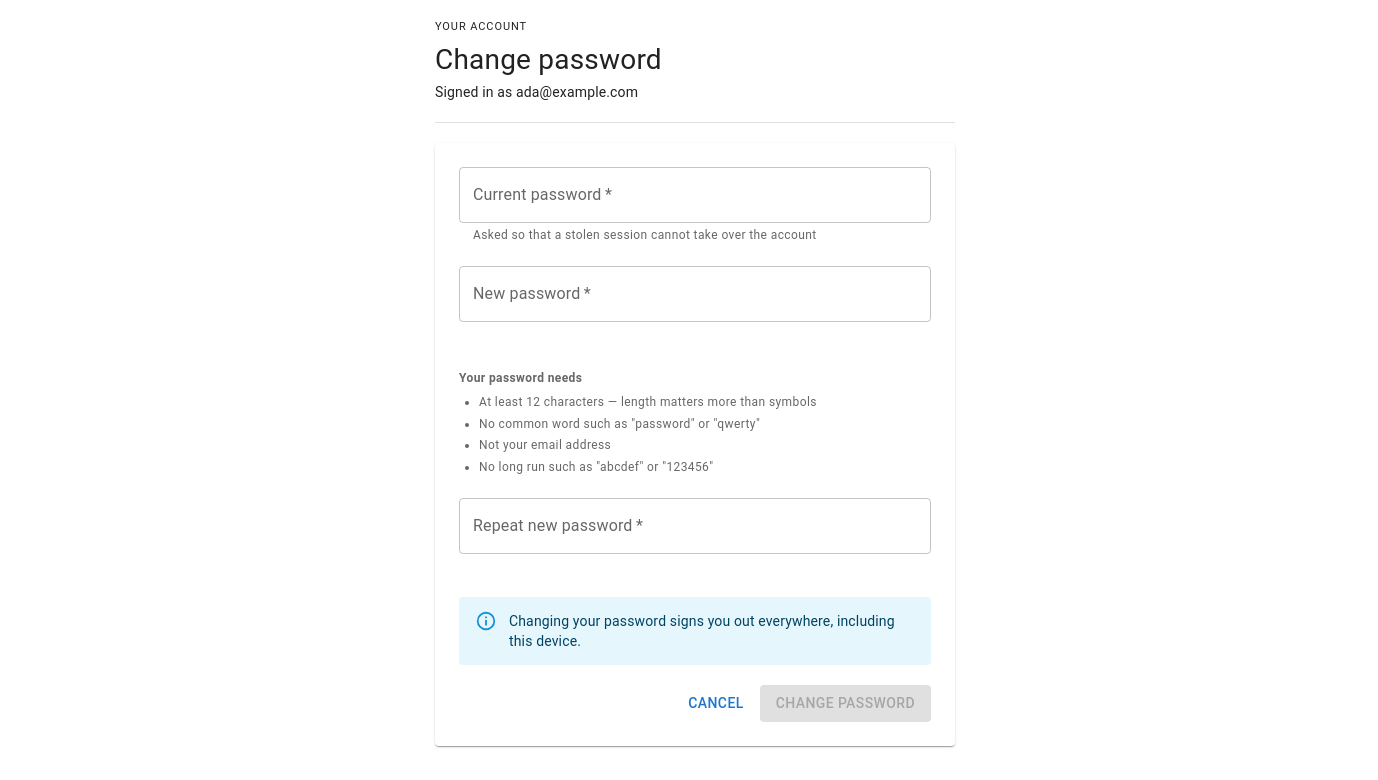
Test: ChangePasswordPage › signs the user out afterwards because every session was revoked
Type "current-password" into the password field labelled "Current password *" at (695, 195), box [459, 167, 931, 223]
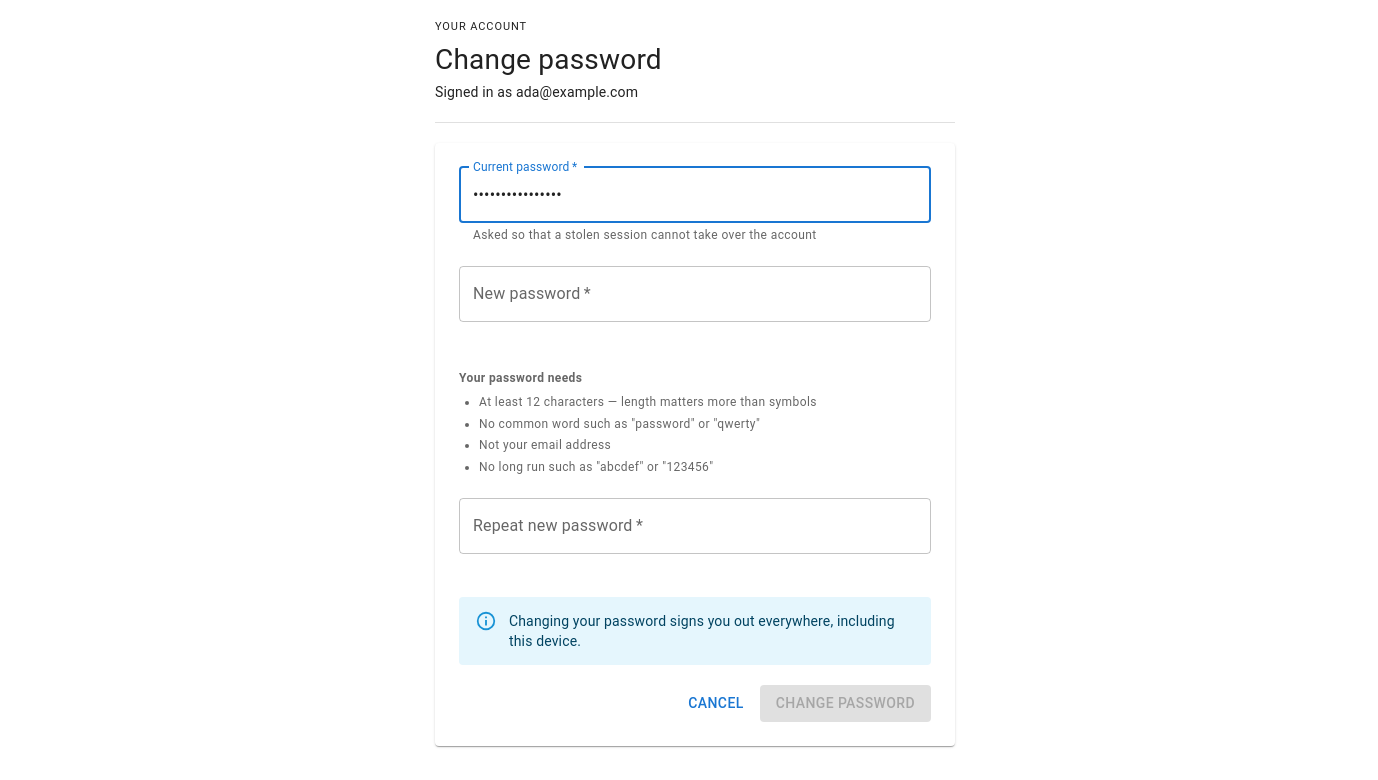
Type "a-brand-new-password" into the password field labelled "New password *" at (695, 294), box [459, 266, 931, 322]
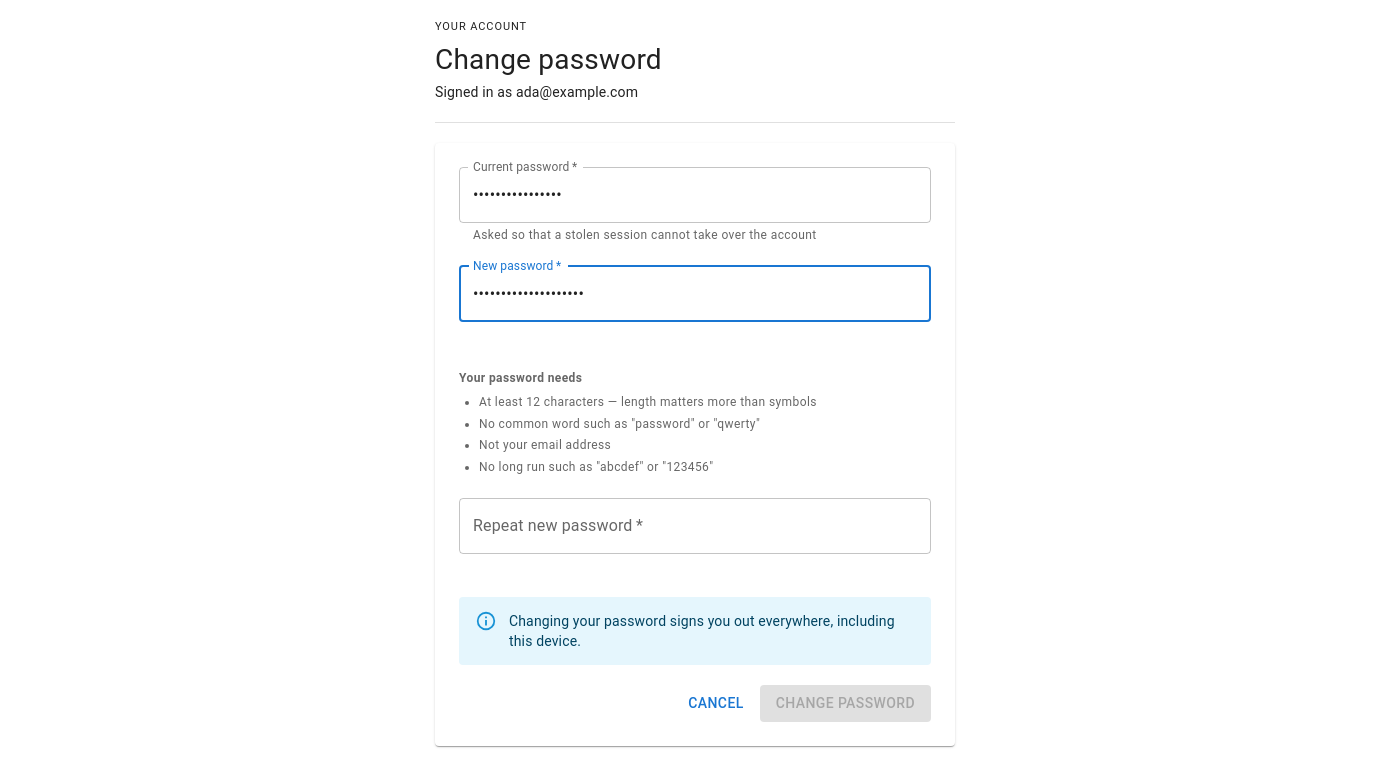
Type "a-brand-new-password" into the password field labelled "Repeat new password *" at (695, 526), box [459, 498, 931, 554]
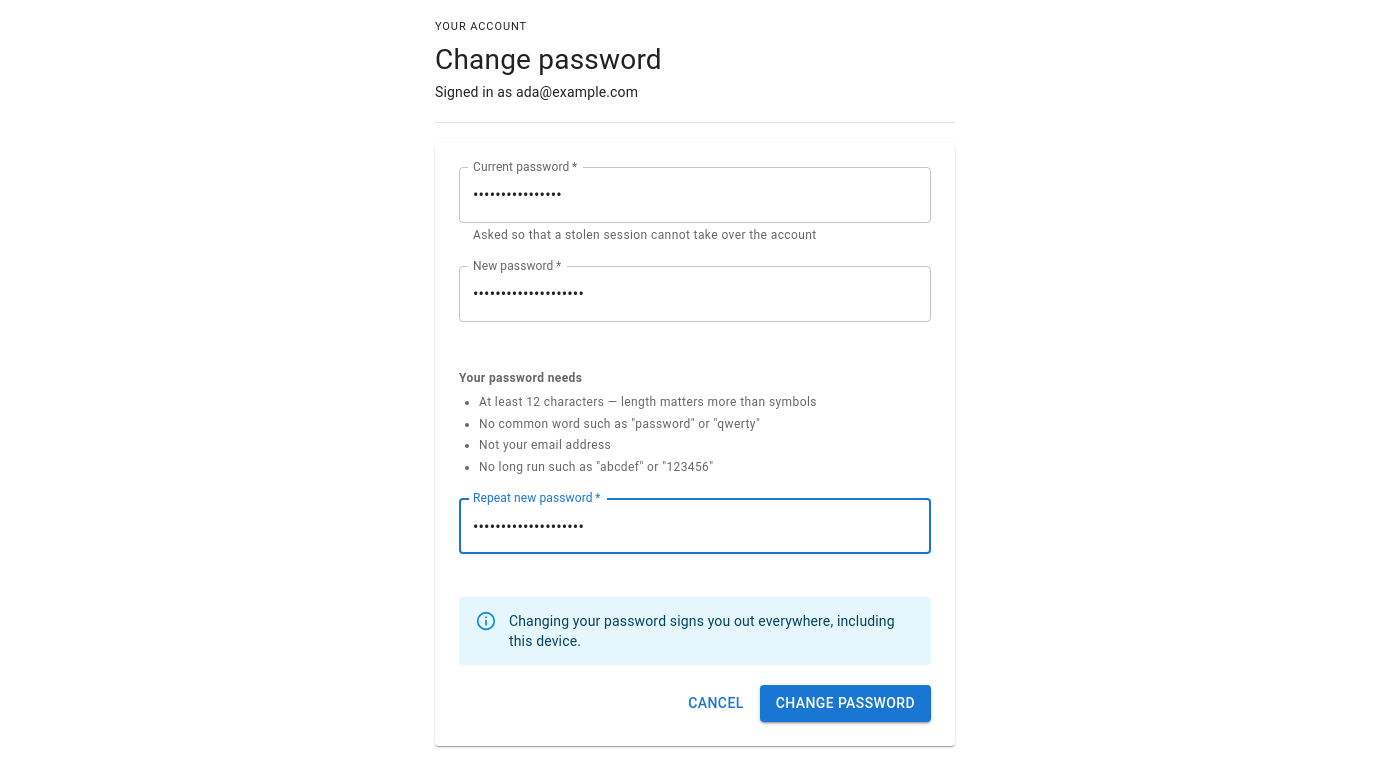
Click the button "Change password" at (845, 703), box [760, 685, 931, 722]
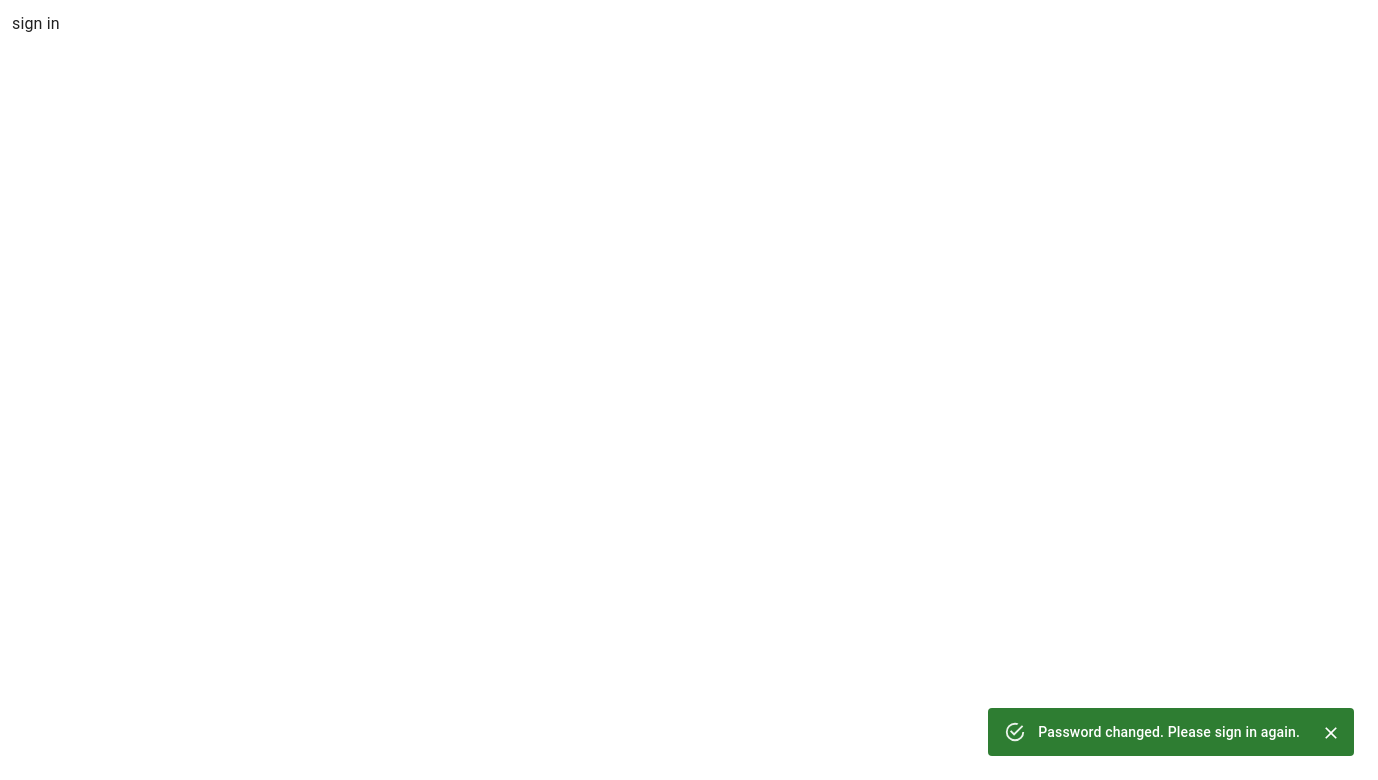
Result: the text "sign in" is shown at [12, 14, 60, 33]
